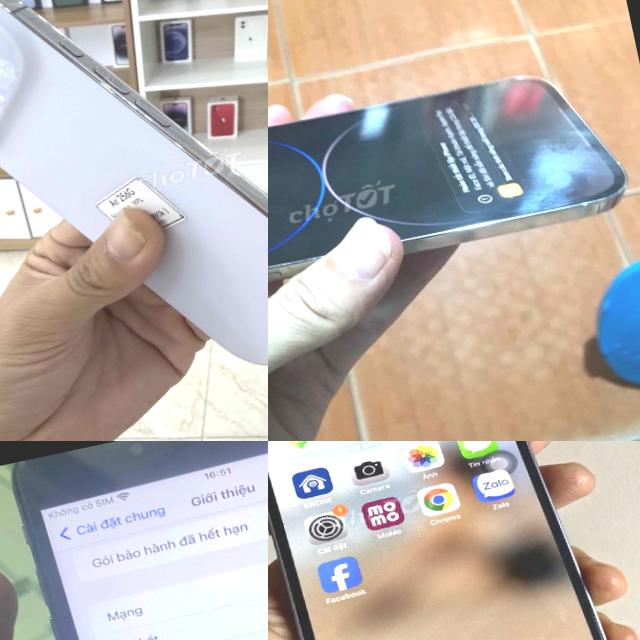gen_14: (268, 38, 640, 346), (268, 441, 634, 640)
gen_17: (0, 0, 268, 441)
gen_7_8: (0, 441, 268, 640)
